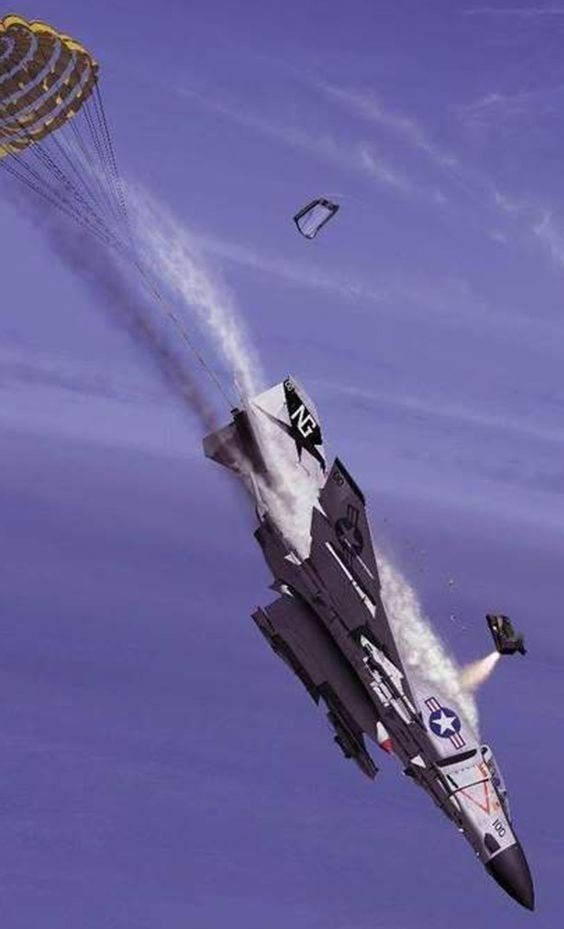F4: (201, 371, 536, 913)
